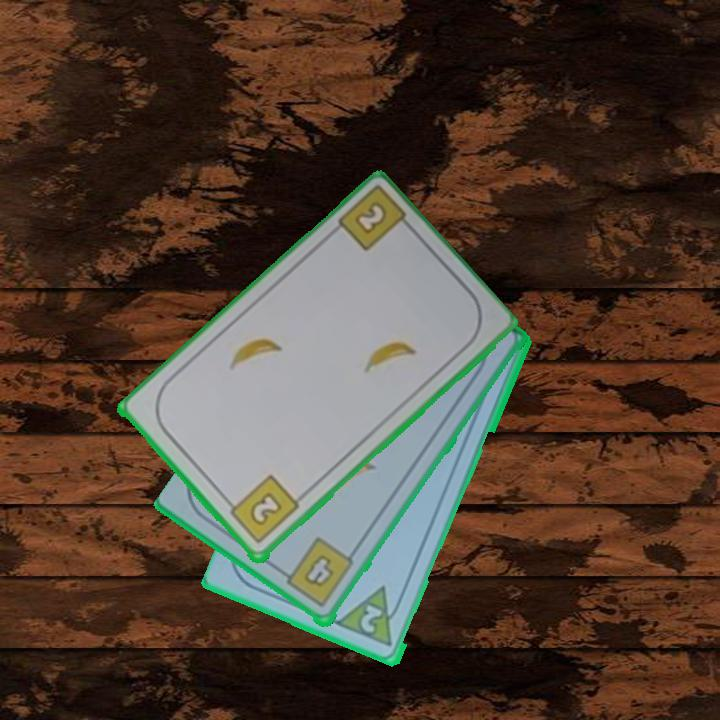2b: (222, 472, 302, 547), (351, 202, 387, 238)
2p: (357, 602, 387, 637)
4b: (277, 534, 357, 611)
